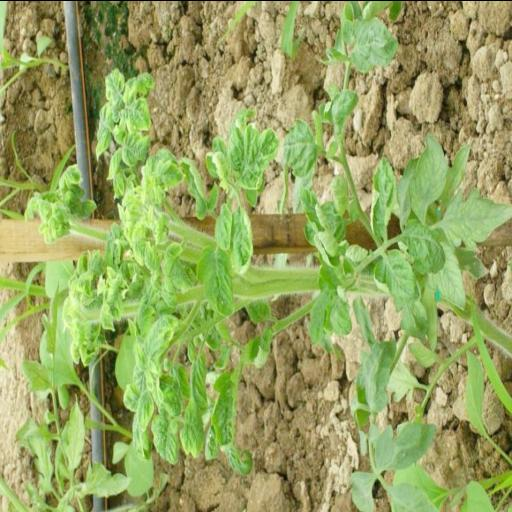disease_tomato: (371, 249, 421, 315), (237, 118, 278, 192), (132, 313, 180, 375), (196, 244, 234, 316), (210, 369, 238, 455), (368, 155, 396, 237), (180, 156, 206, 218), (204, 134, 230, 194), (230, 205, 252, 275), (180, 401, 206, 458), (151, 414, 179, 464), (104, 264, 128, 320), (190, 350, 209, 414), (96, 102, 116, 161), (120, 97, 151, 134), (122, 130, 152, 167), (122, 70, 154, 102), (214, 200, 232, 252), (103, 66, 125, 104), (160, 156, 186, 188), (137, 390, 155, 434), (58, 162, 84, 192), (144, 240, 162, 279), (123, 380, 144, 411), (106, 146, 122, 180), (204, 180, 220, 212)
